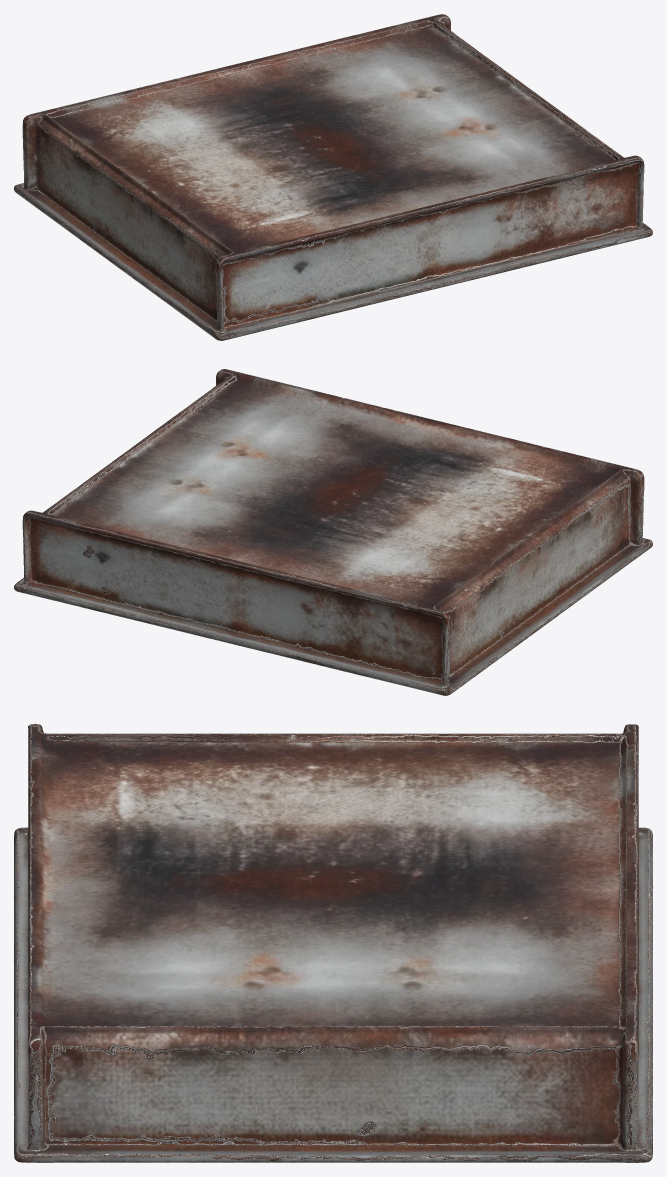
The picture shows the model from 3 angles, top to bottom: view 1: azimuth 30°, elevation 25°; view 2: azimuth 150°, elevation 25°; view 3: azimuth 270°, elevation 25°; orthographic projection. The views are drawn at different scales.
Size of the model in its own units: 1.54 by 0.263 by 1.27.
1 material, 1 textured.
